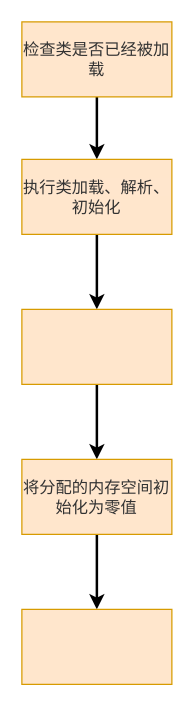
Image size: 194x706. Some labels were removed from this diagram. Here are the shapes that lost their labels. From the top down, the centre of each, then its label:
At pixel 96 346: "为新生对象分配内存空间".
At pixel 96 646: "调用对象的<init>方法".
